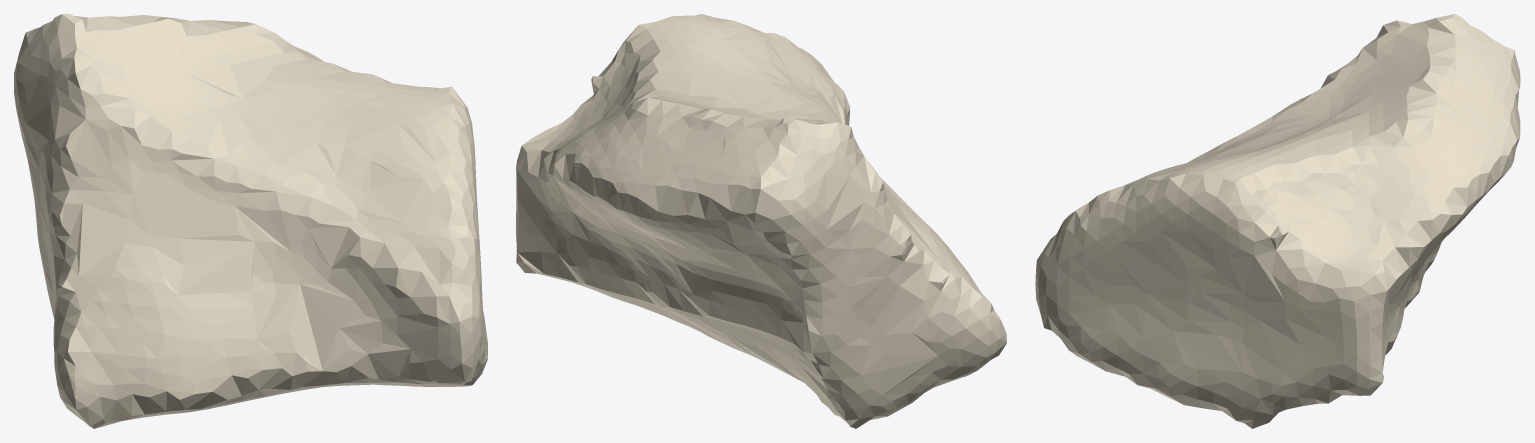
The model's file is Model_77_RH__Auditory_cortex__caudolateral_area_(AuCL).obj.
3 renders of one model, left to right at view 1: azimuth 30°, elevation 25°; view 2: azimuth 150°, elevation 25°; view 3: azimuth 270°, elevation 25°, orthographic. The views are drawn at different scales.
Bounding box in the file's own units: 2.35 × 1.77 × 2.48.
